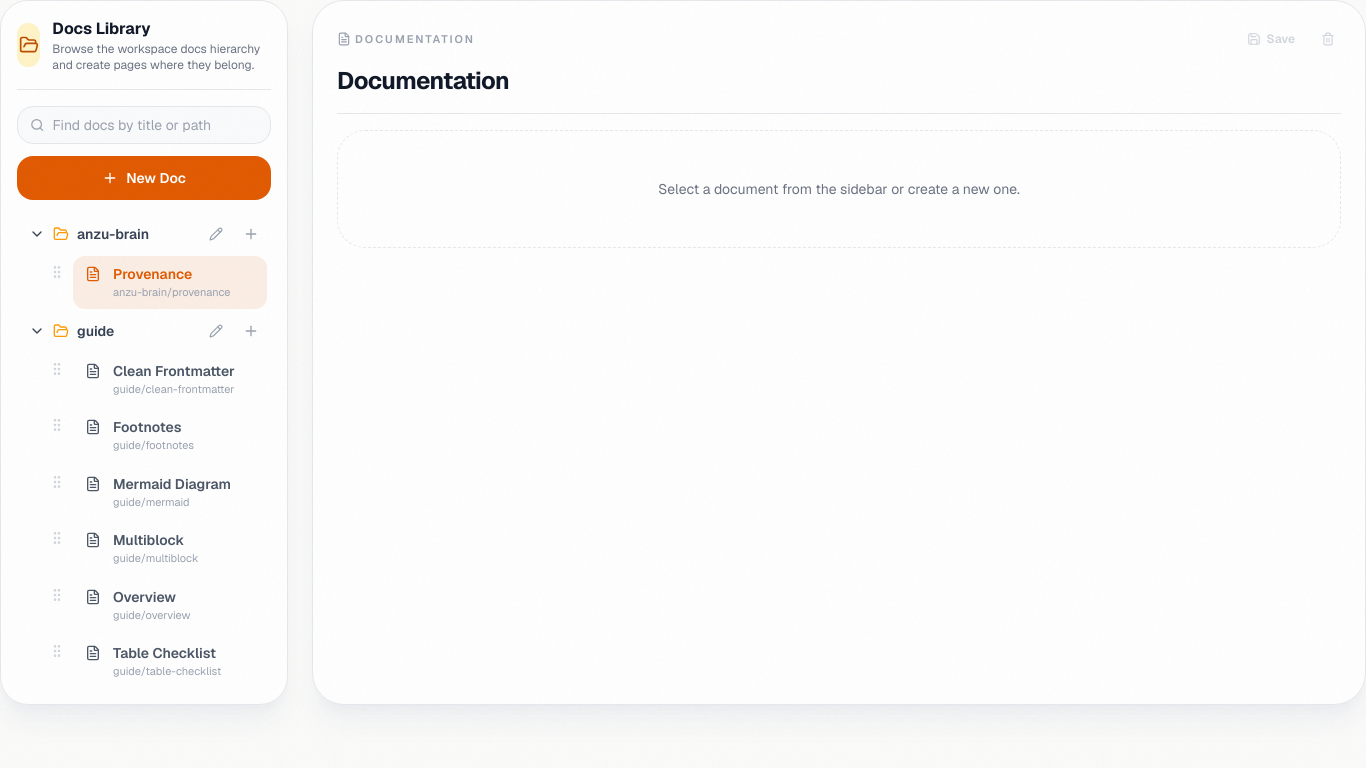
it: DocsScreen block-scoped rendered editing (FLUX-1663) › a mermaid fence stays an editable code block in Rich text mode and round-trips byte-for-byte
Expected: the text "Provenance" is shown, [113,265,192,283]
Click the text "Mermaid Diagram" at {"x": 172, "y": 484}, box [113,474,231,494]
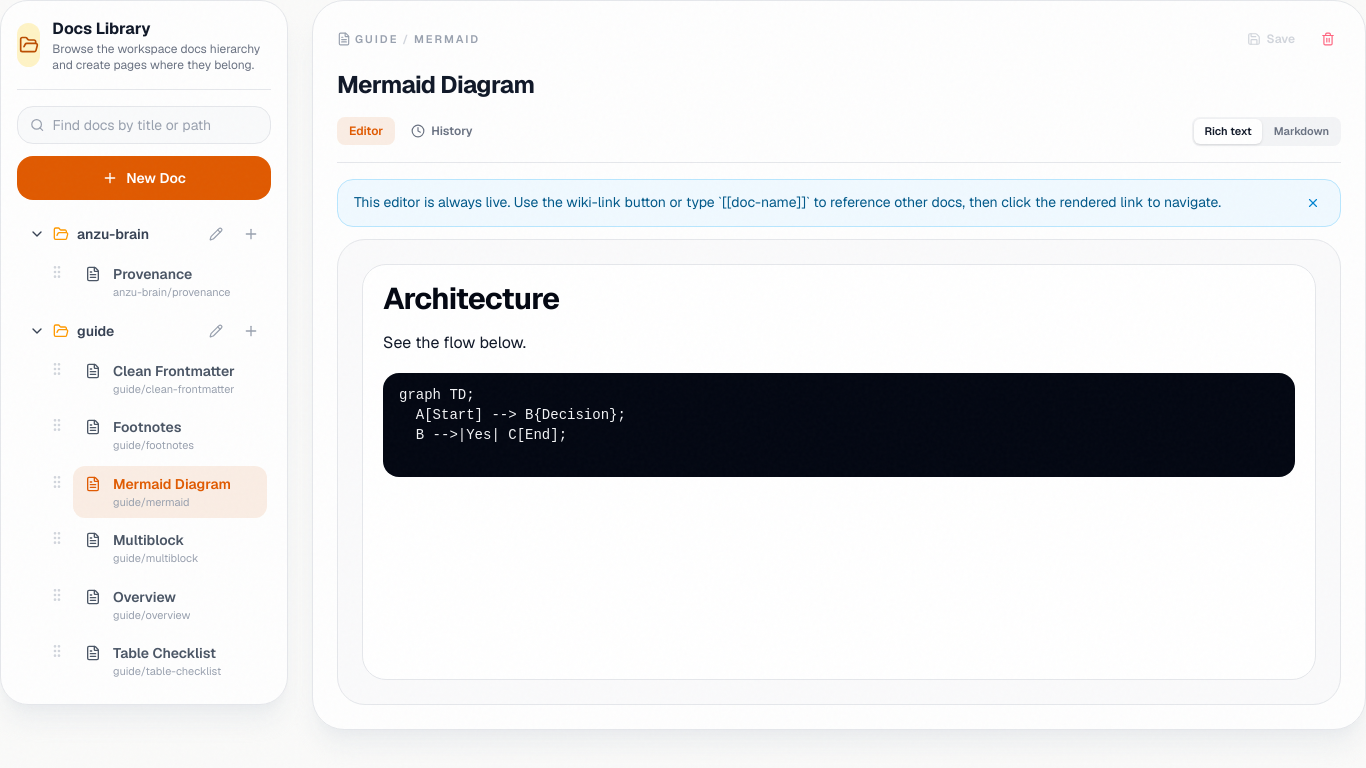
Expected: the field that starts with "Architecture" is shown, [362,264,1316,680]
Expected: the text box labelled "graph TD; A[Start] --> B{Decision}; B -->|Yes| C[End];" is shown, [399,386,626,442]
Expected: the field that starts with "Architecture" shows "graph TD", [362,264,1316,680]
Click the button "Mermaid Diagram" at {"x": 436, "y": 85}, box [329,65,542,105]
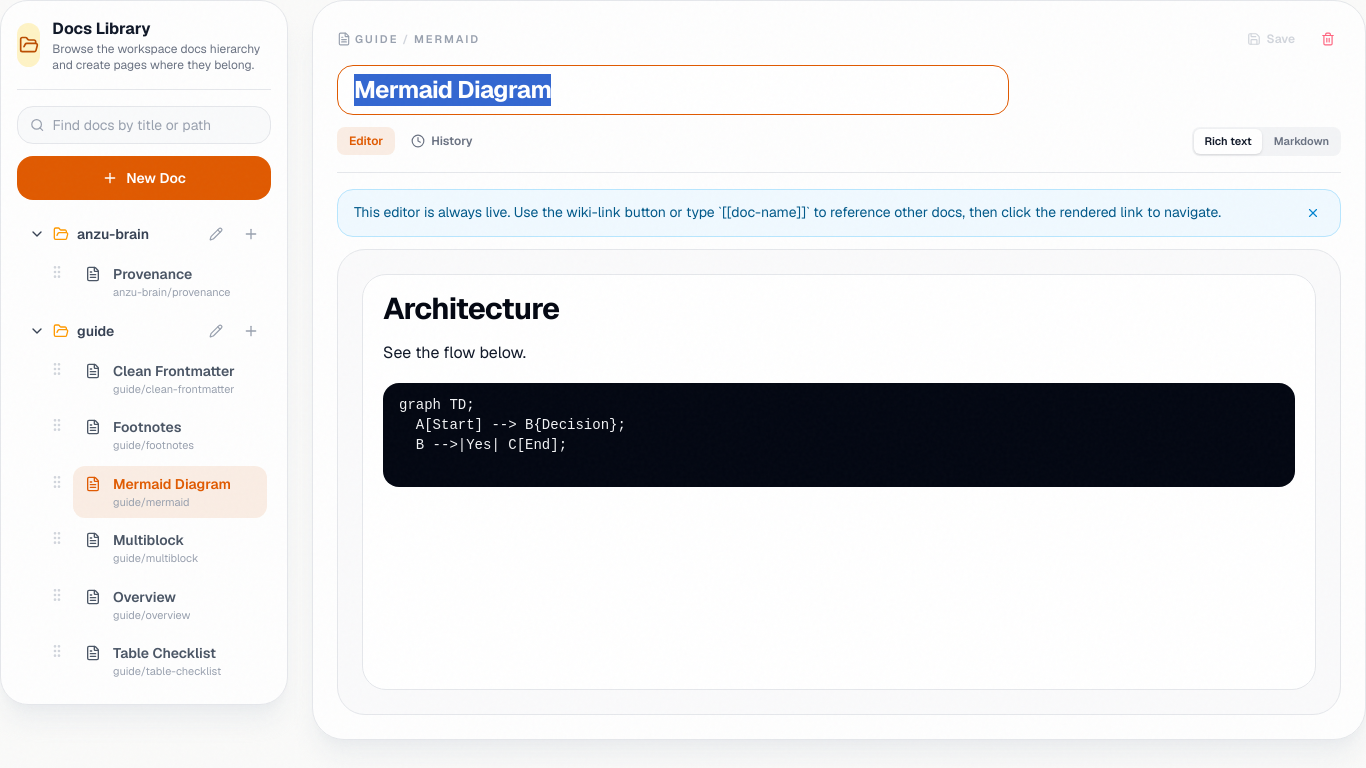
Replace the text in the field showing "Mermaid Diagram" with "Mermaid Diagram Renamed" at {"x": 673, "y": 90}, box [337,65,1009,115]
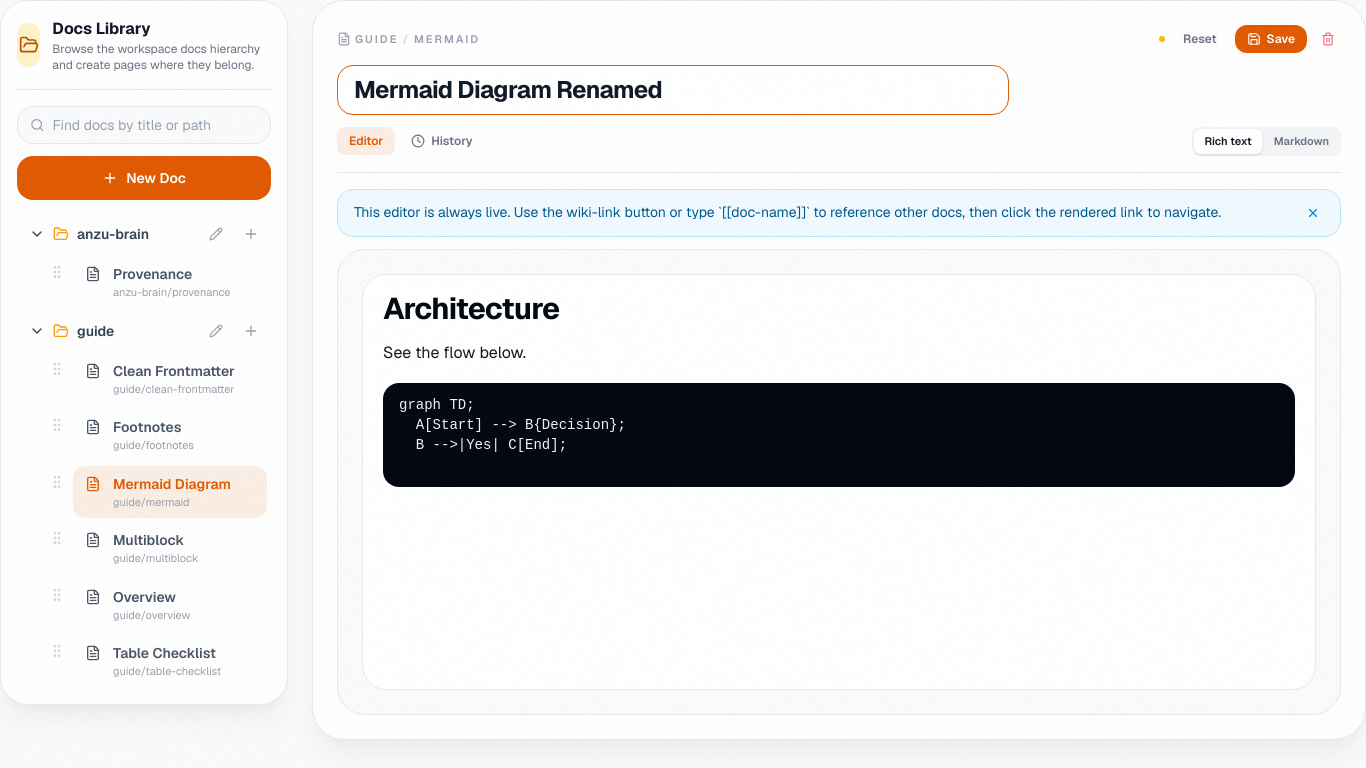
Press Enter in the field showing "Mermaid Diagram", box [337,65,1009,115]
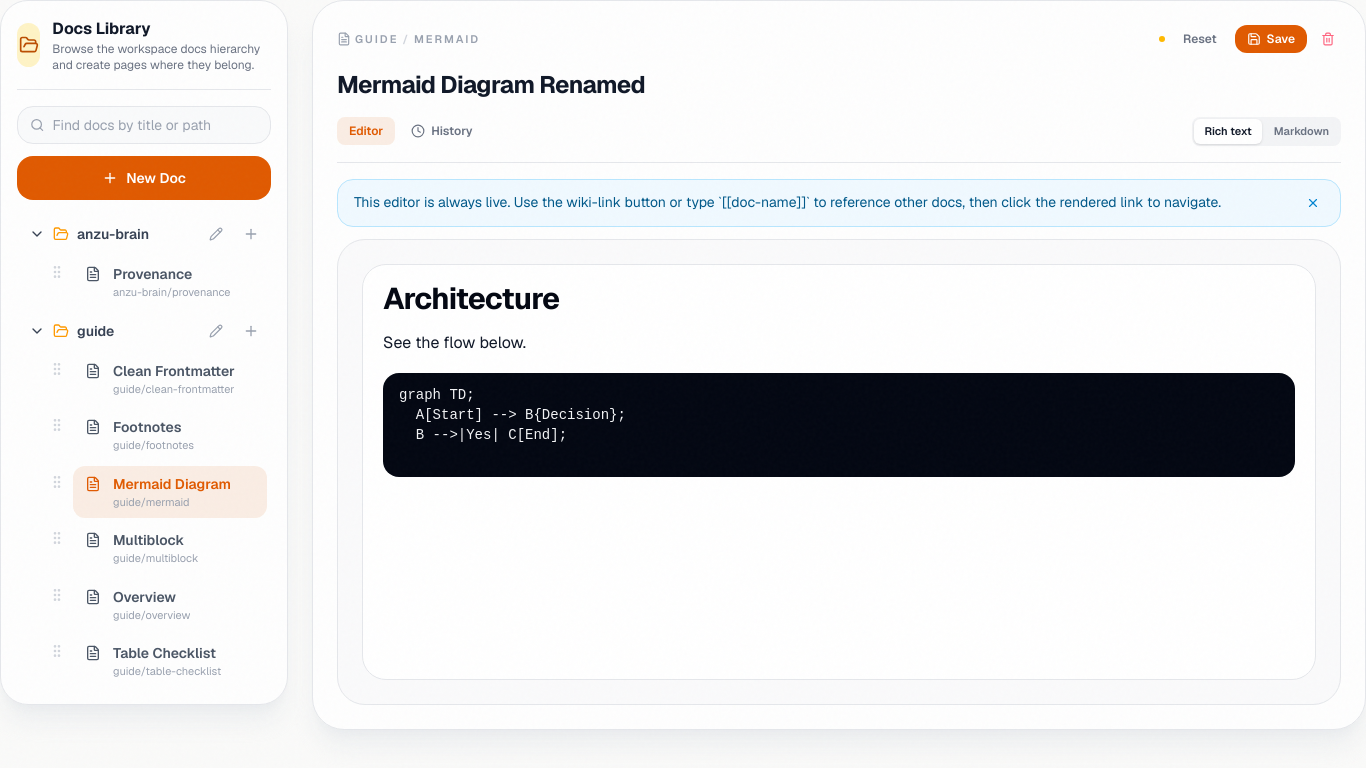
Expected: the button "Save" is enabled
Click the button "Save" at {"x": 1271, "y": 39}, box [1234,25,1307,53]
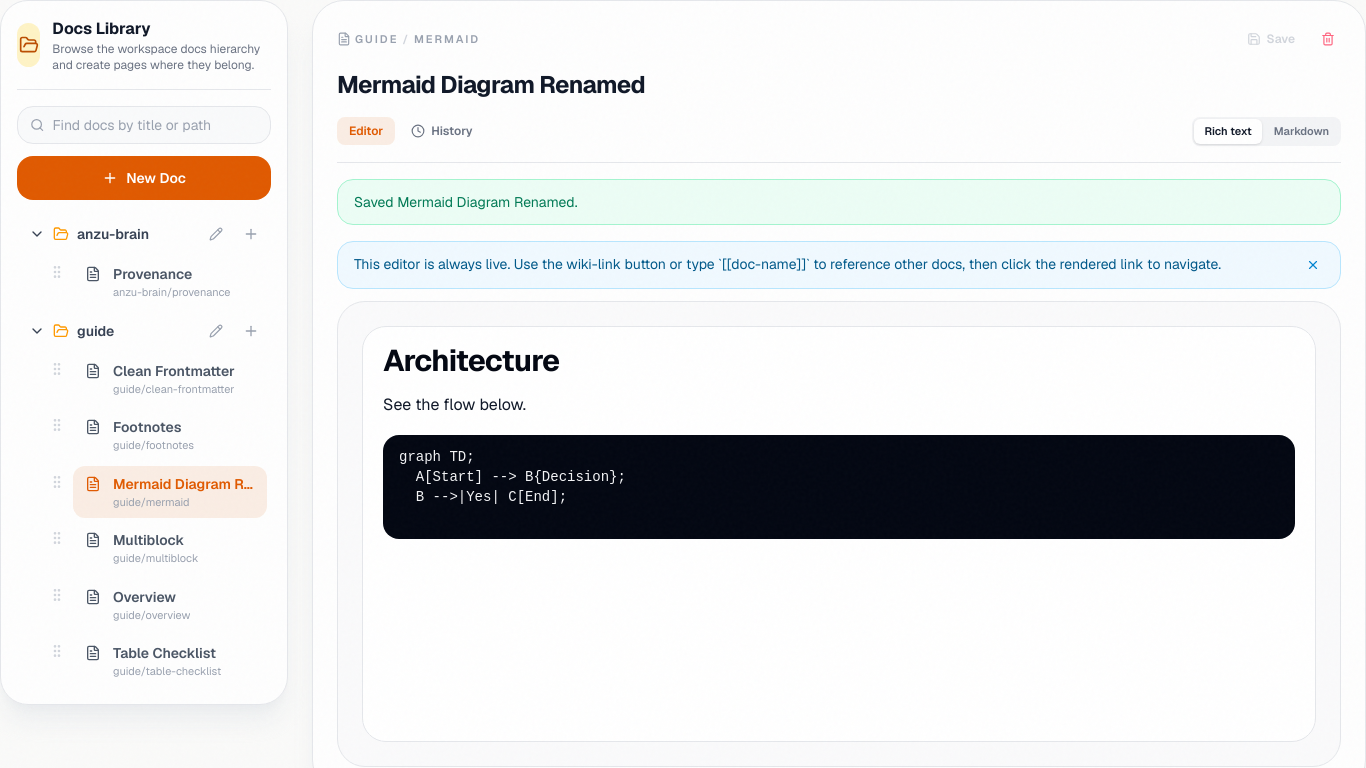
Expected: the text "Mermaid Diagram" reads "Mermaid Diagram Renamed", [113,474,271,492]
